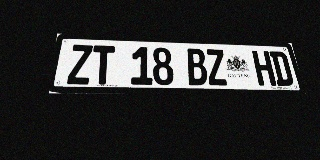1: (131, 47, 153, 85)
8: (152, 47, 174, 85)
B: (185, 48, 209, 85)
D: (269, 51, 295, 86)
H: (252, 51, 277, 86)
T: (91, 45, 115, 85)
Z: (67, 44, 93, 84), (205, 49, 228, 85)
